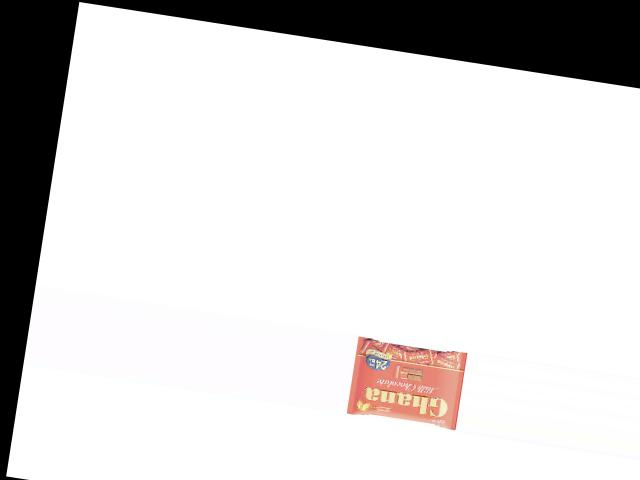chocolate: (345, 333, 465, 428)
